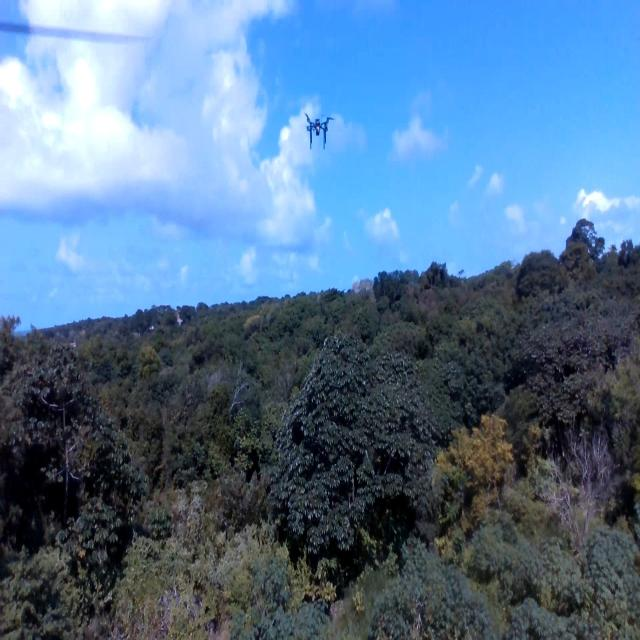-uav-: (297, 105, 338, 154)
